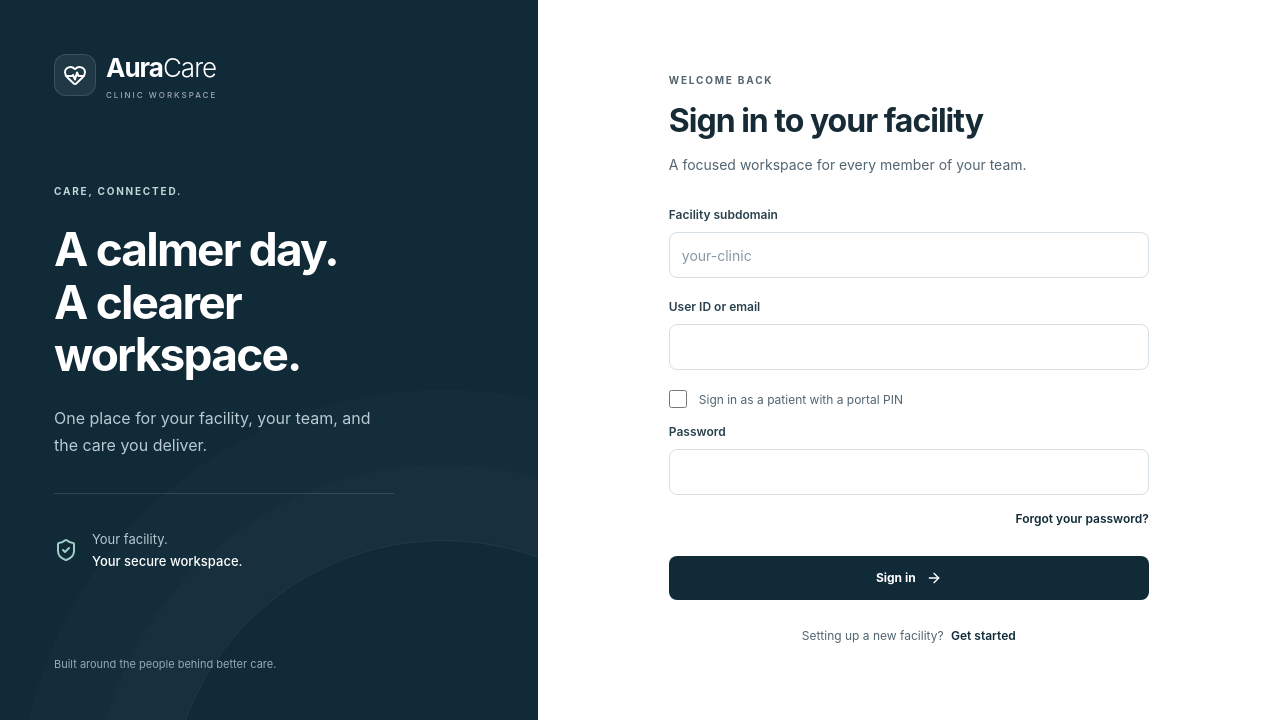
Test: Phase 1 accessible user journeys › submits facility-scoped login and reports errors without losing input
Type "alpha" into the field labelled "Facility subdomain" at (909, 255), box [669,232,1149,278]
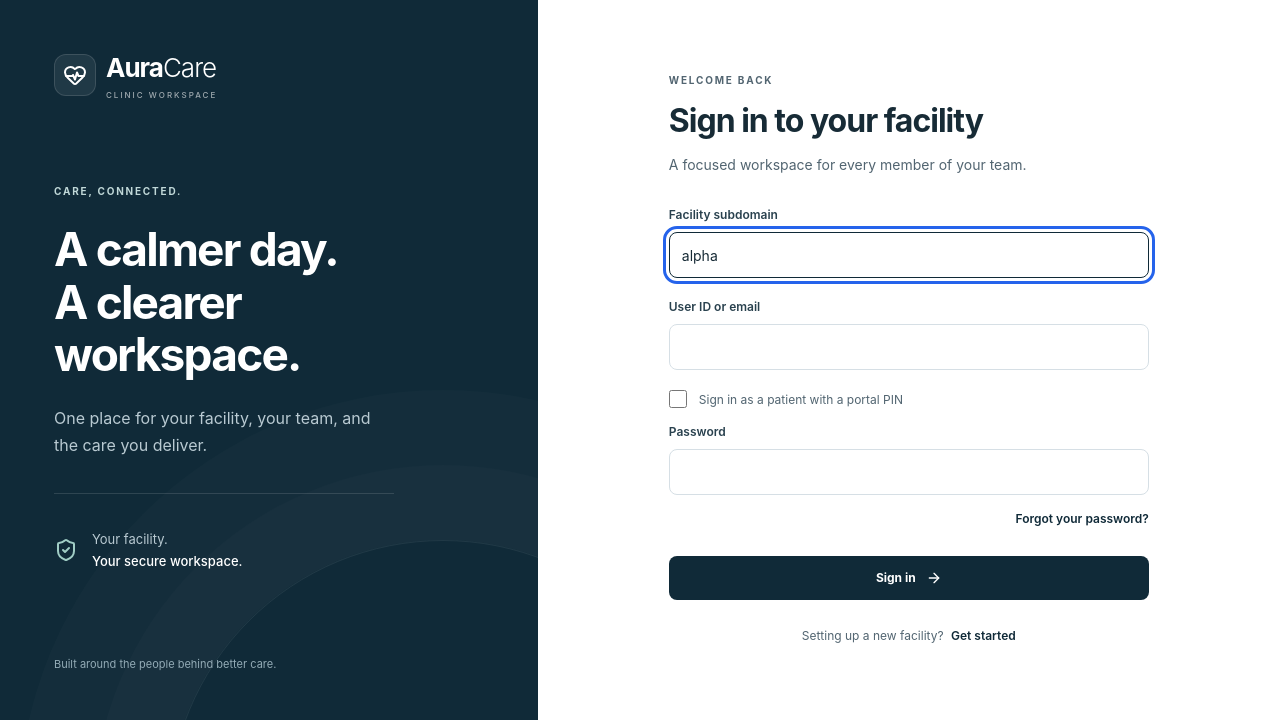
Type "alex@test.test" into the field labelled "User ID or email" at (909, 347), box [669,324,1149,370]
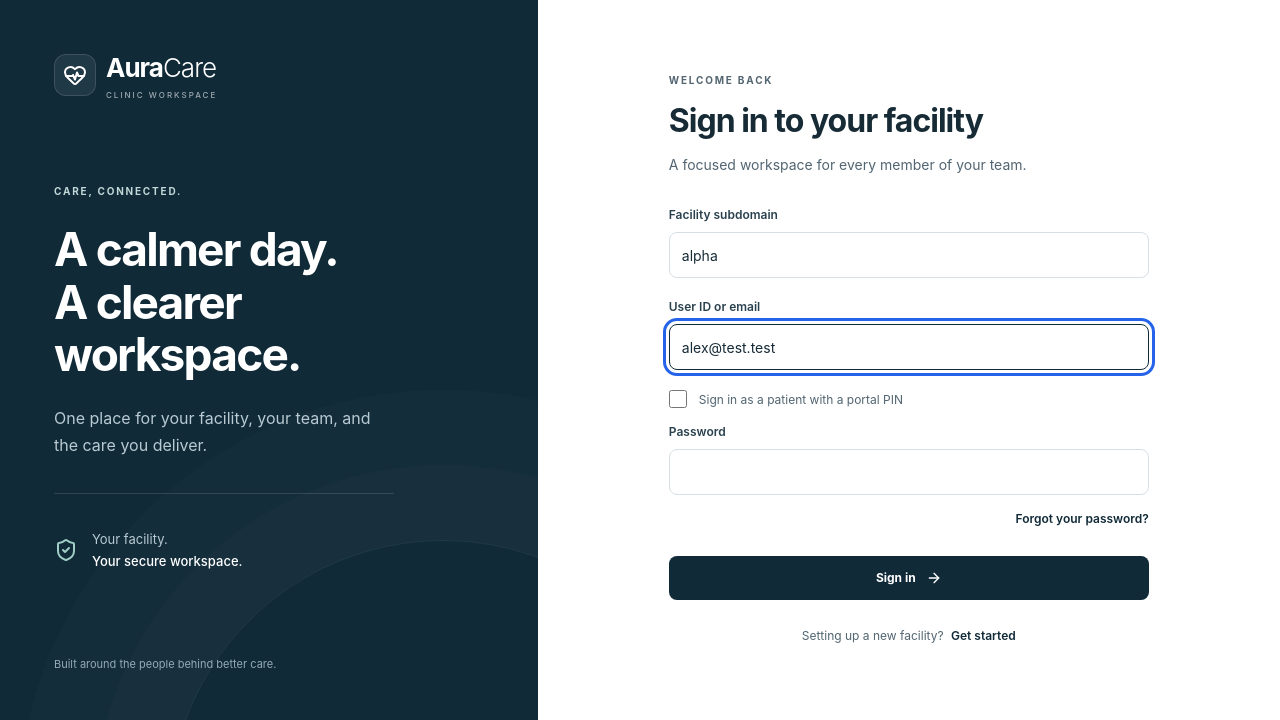
Type "correct horse battery" into the password field labelled "Password" at (909, 472), box [669,450,1149,496]
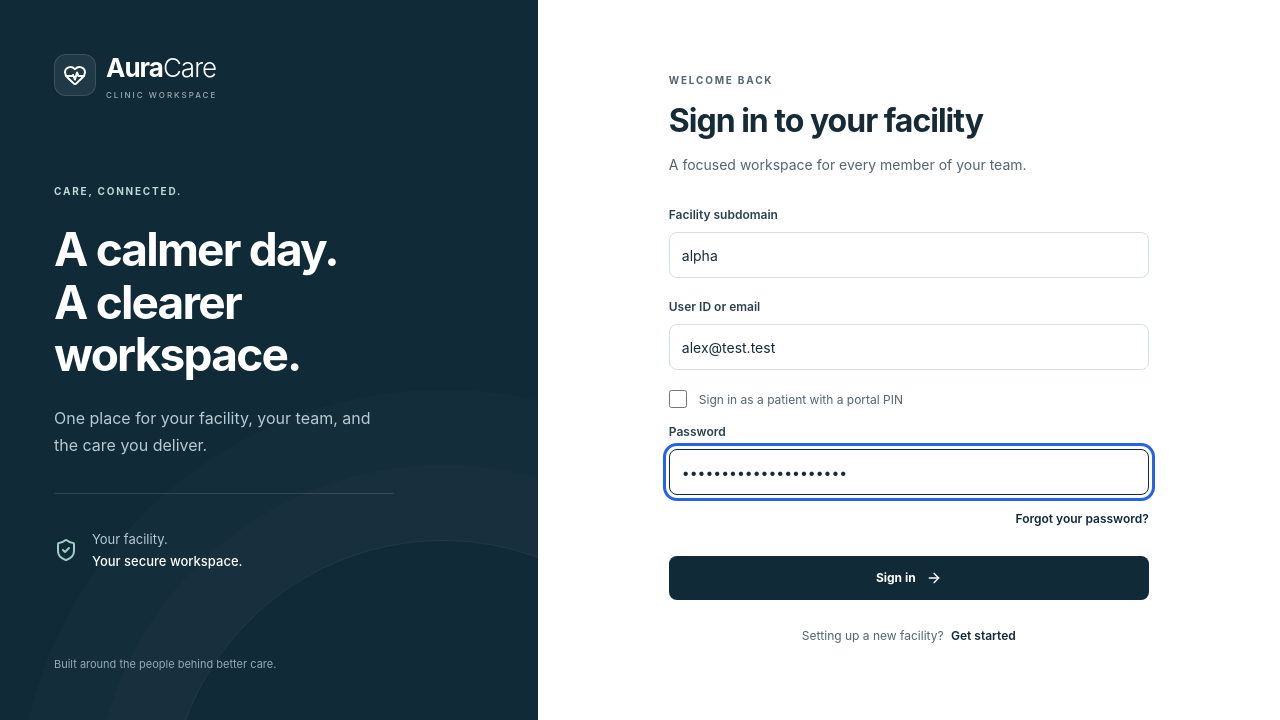
Click the button "Sign in" at (909, 578), box [669,556,1149,600]
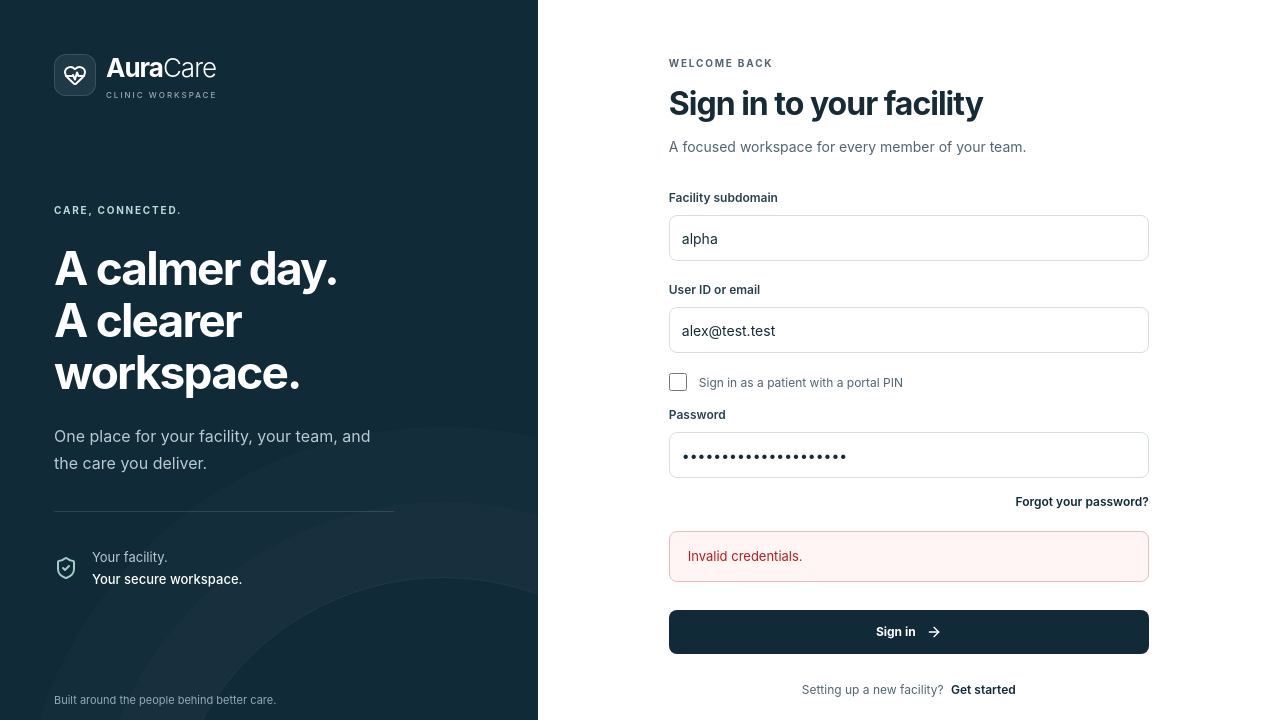
expect the message reads "Invalid credentials.": met, box [688,548,803,564]
